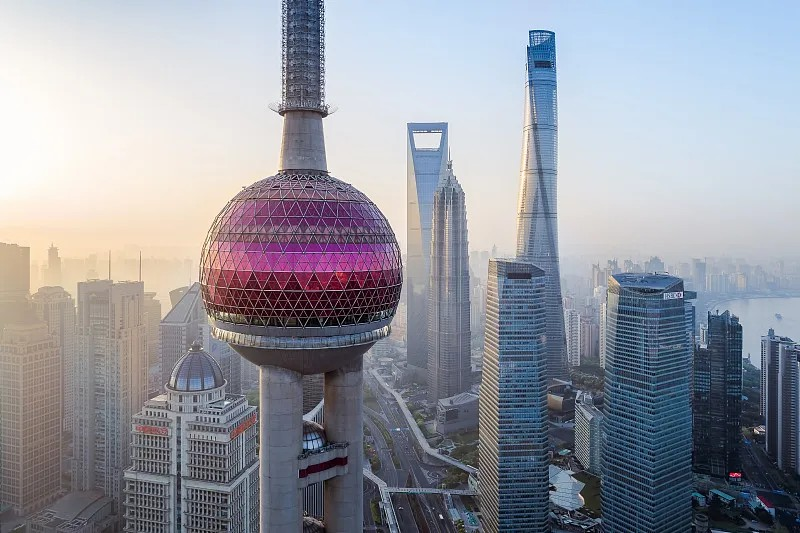Oriental: (199, 1, 402, 533)
